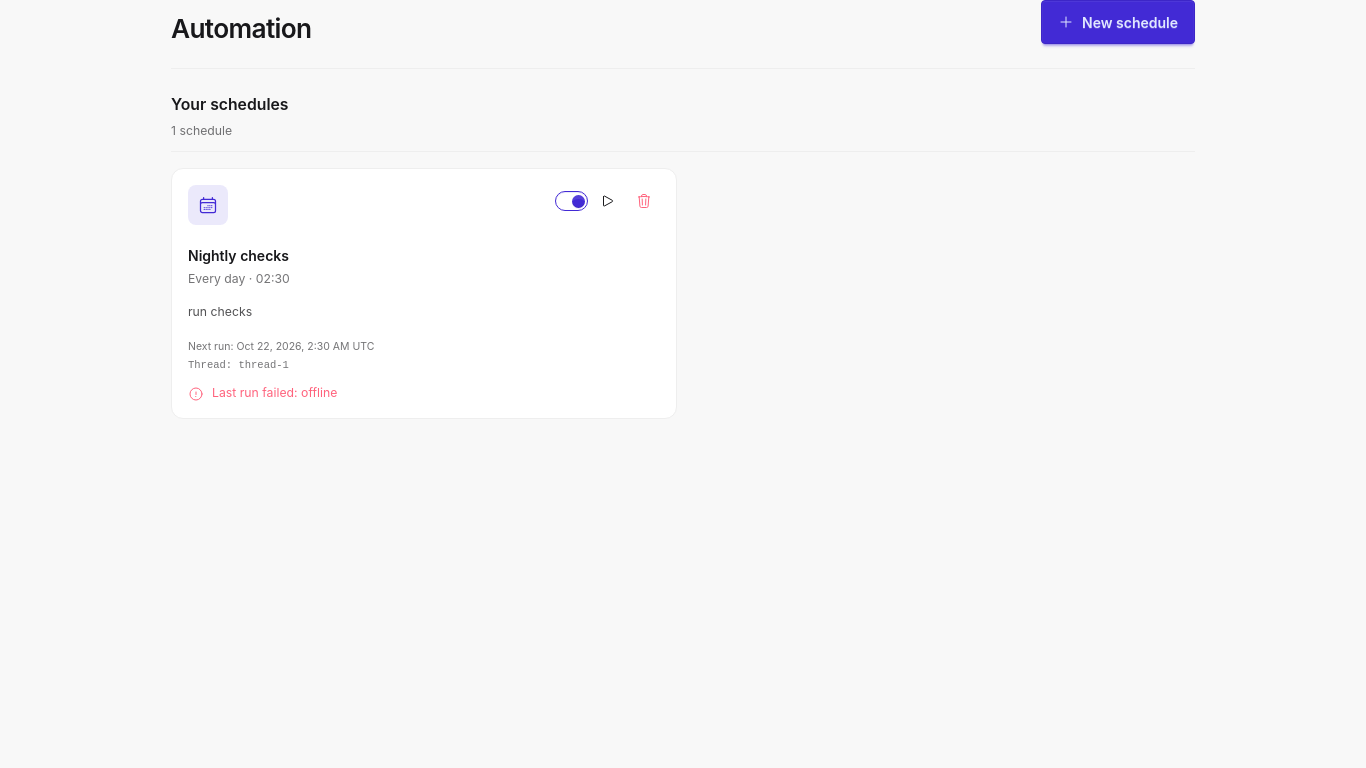
Test: SchedulesPage › rejects a one-time schedule without a valid time
Step 1. Click the button "New schedule" → (1118, 22), box [1041, 0, 1195, 44]
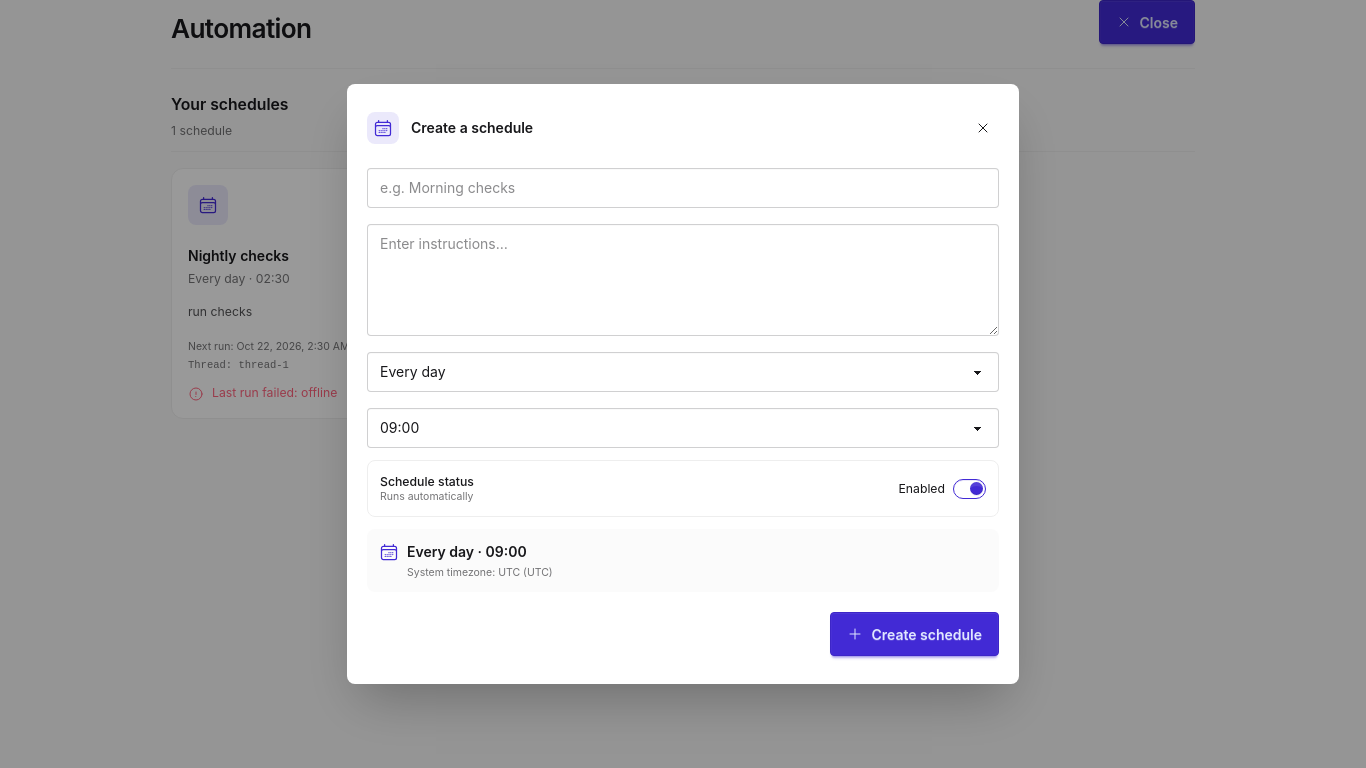
Step 2. Select "One time" in the dropdown named "Cadence" → (683, 372), box [367, 352, 999, 392]
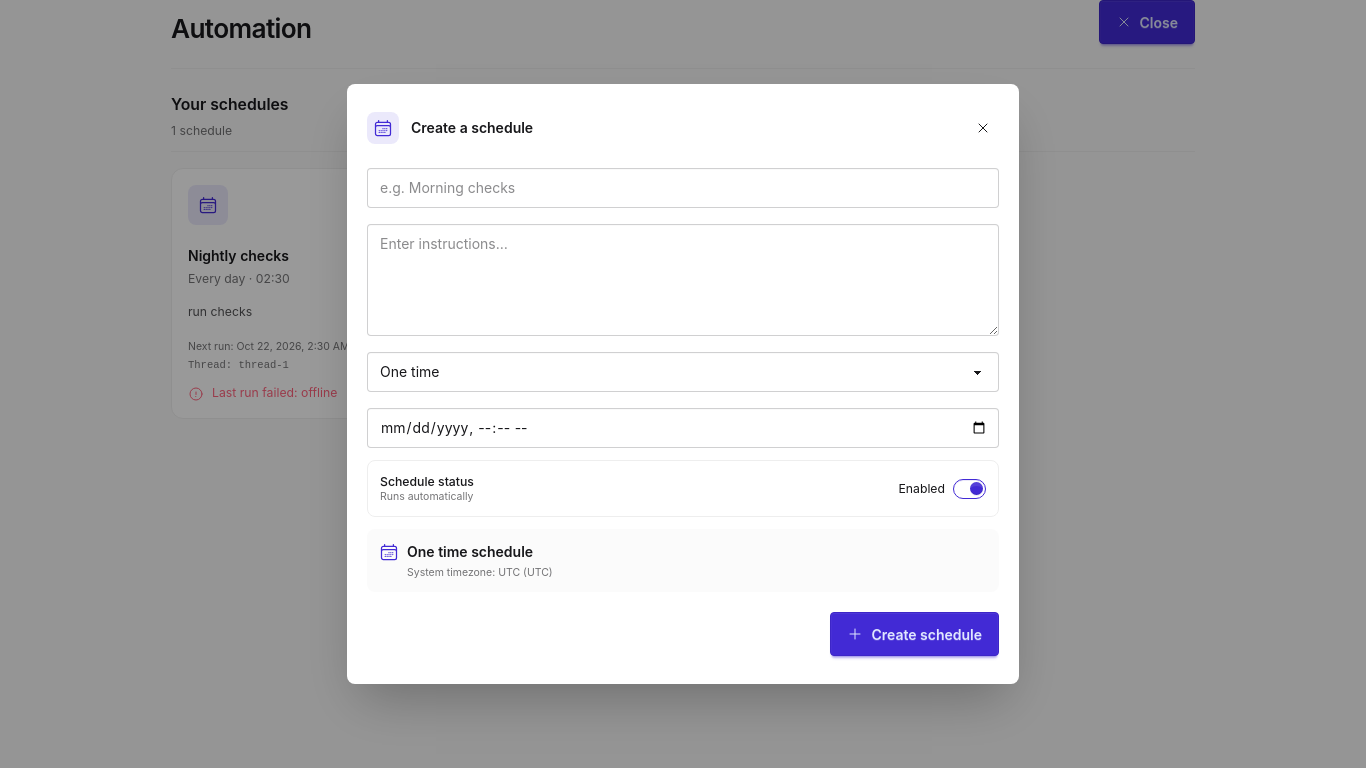
Step 3. Click the button "Create schedule" → (915, 634), box [830, 612, 999, 656]
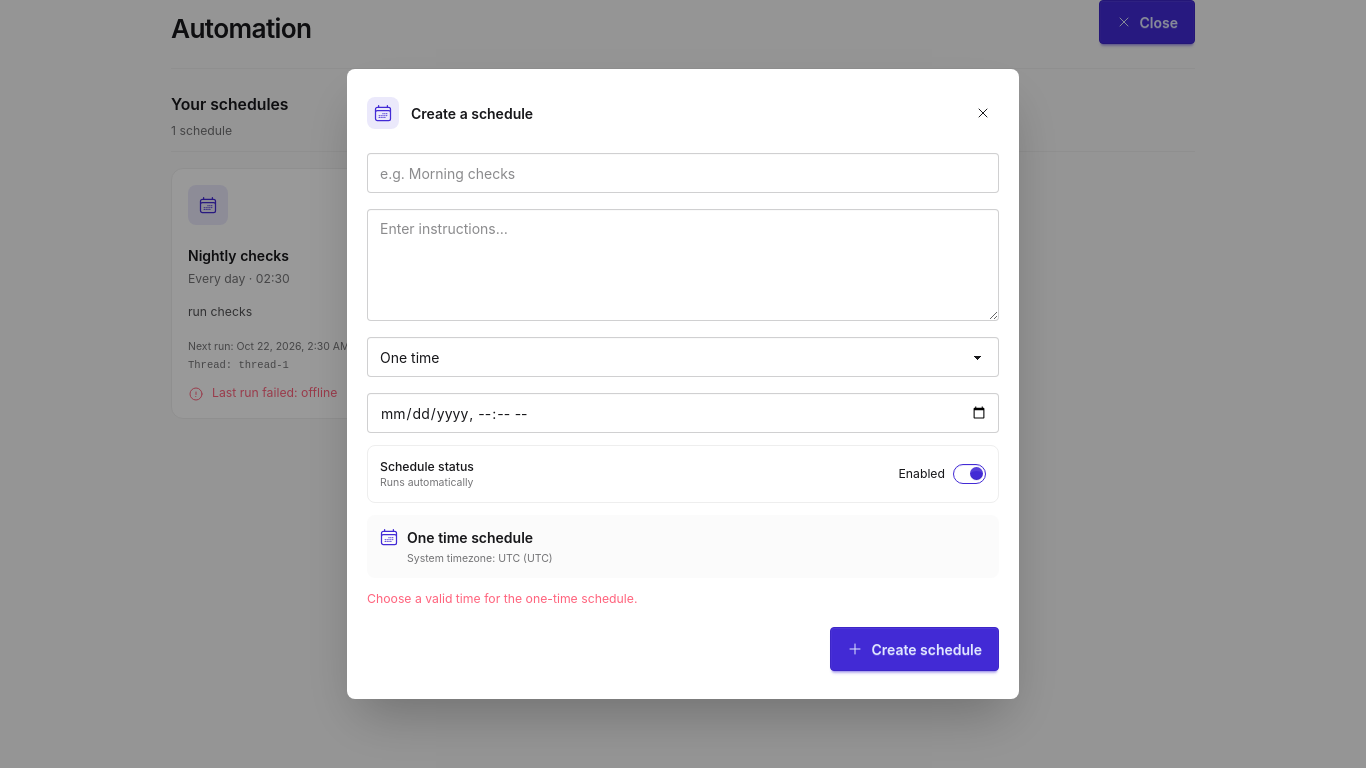
Result: the text "Choose a valid time for the one-time schedule." is shown at [367, 590, 637, 606]
